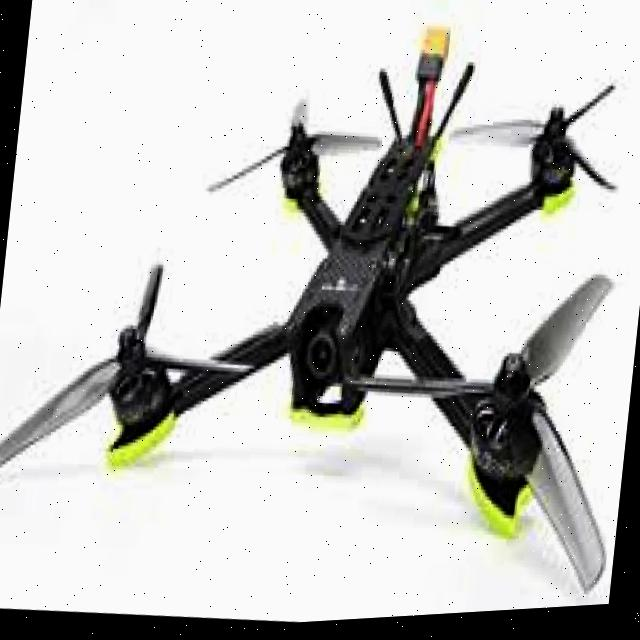drone: (22, 0, 640, 634)
